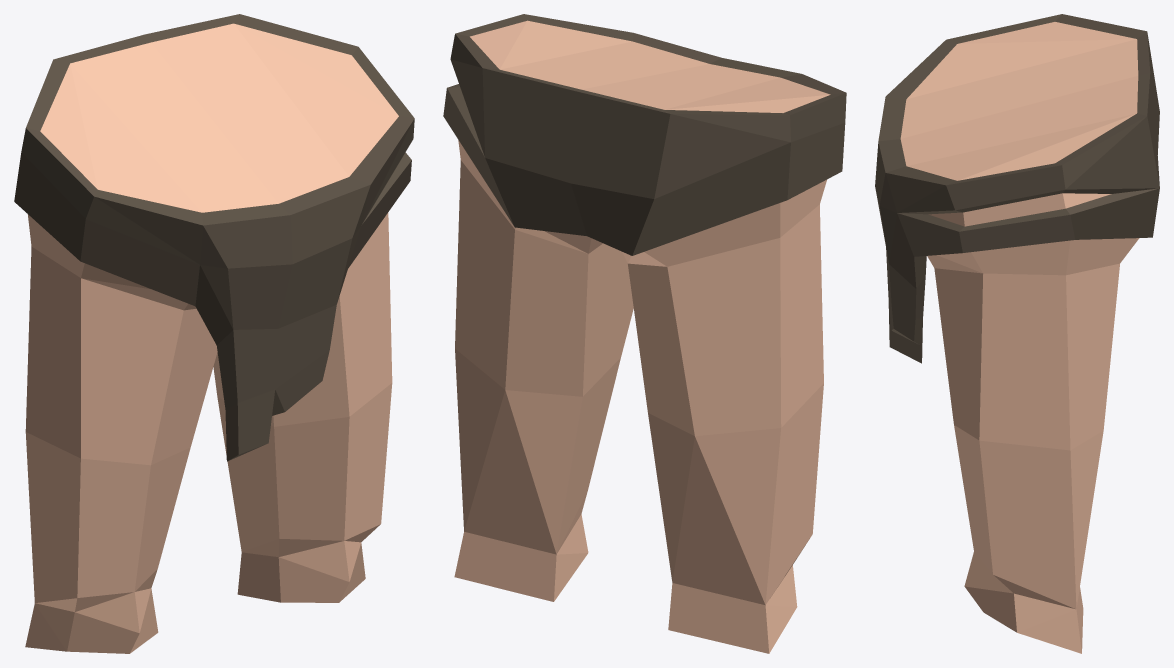
File: Chr_Hips_Male_00_Static.fbx
The picture shows the model from 3 angles, left to right: view 1: azimuth 30°, elevation 25°; view 2: azimuth 150°, elevation 25°; view 3: azimuth 270°, elevation 25°; orthographic projection. The views are drawn at different scales.
Visible parts, largest first — view 1: Chr_Hips_Male_00_Static; view 2: Chr_Hips_Male_00_Static; view 3: Chr_Hips_Male_00_Static.
Boxes of the visible parts, x1=… form: Chr_Hips_Male_00_Static: x1=14, y1=14, x2=414, y2=653; Chr_Hips_Male_00_Static: x1=443, y1=14, x2=846, y2=653; Chr_Hips_Male_00_Static: x1=875, y1=14, x2=1159, y2=653.
Bounding box in the file's own units: 0.3618 × 0.554 × 0.2804.
